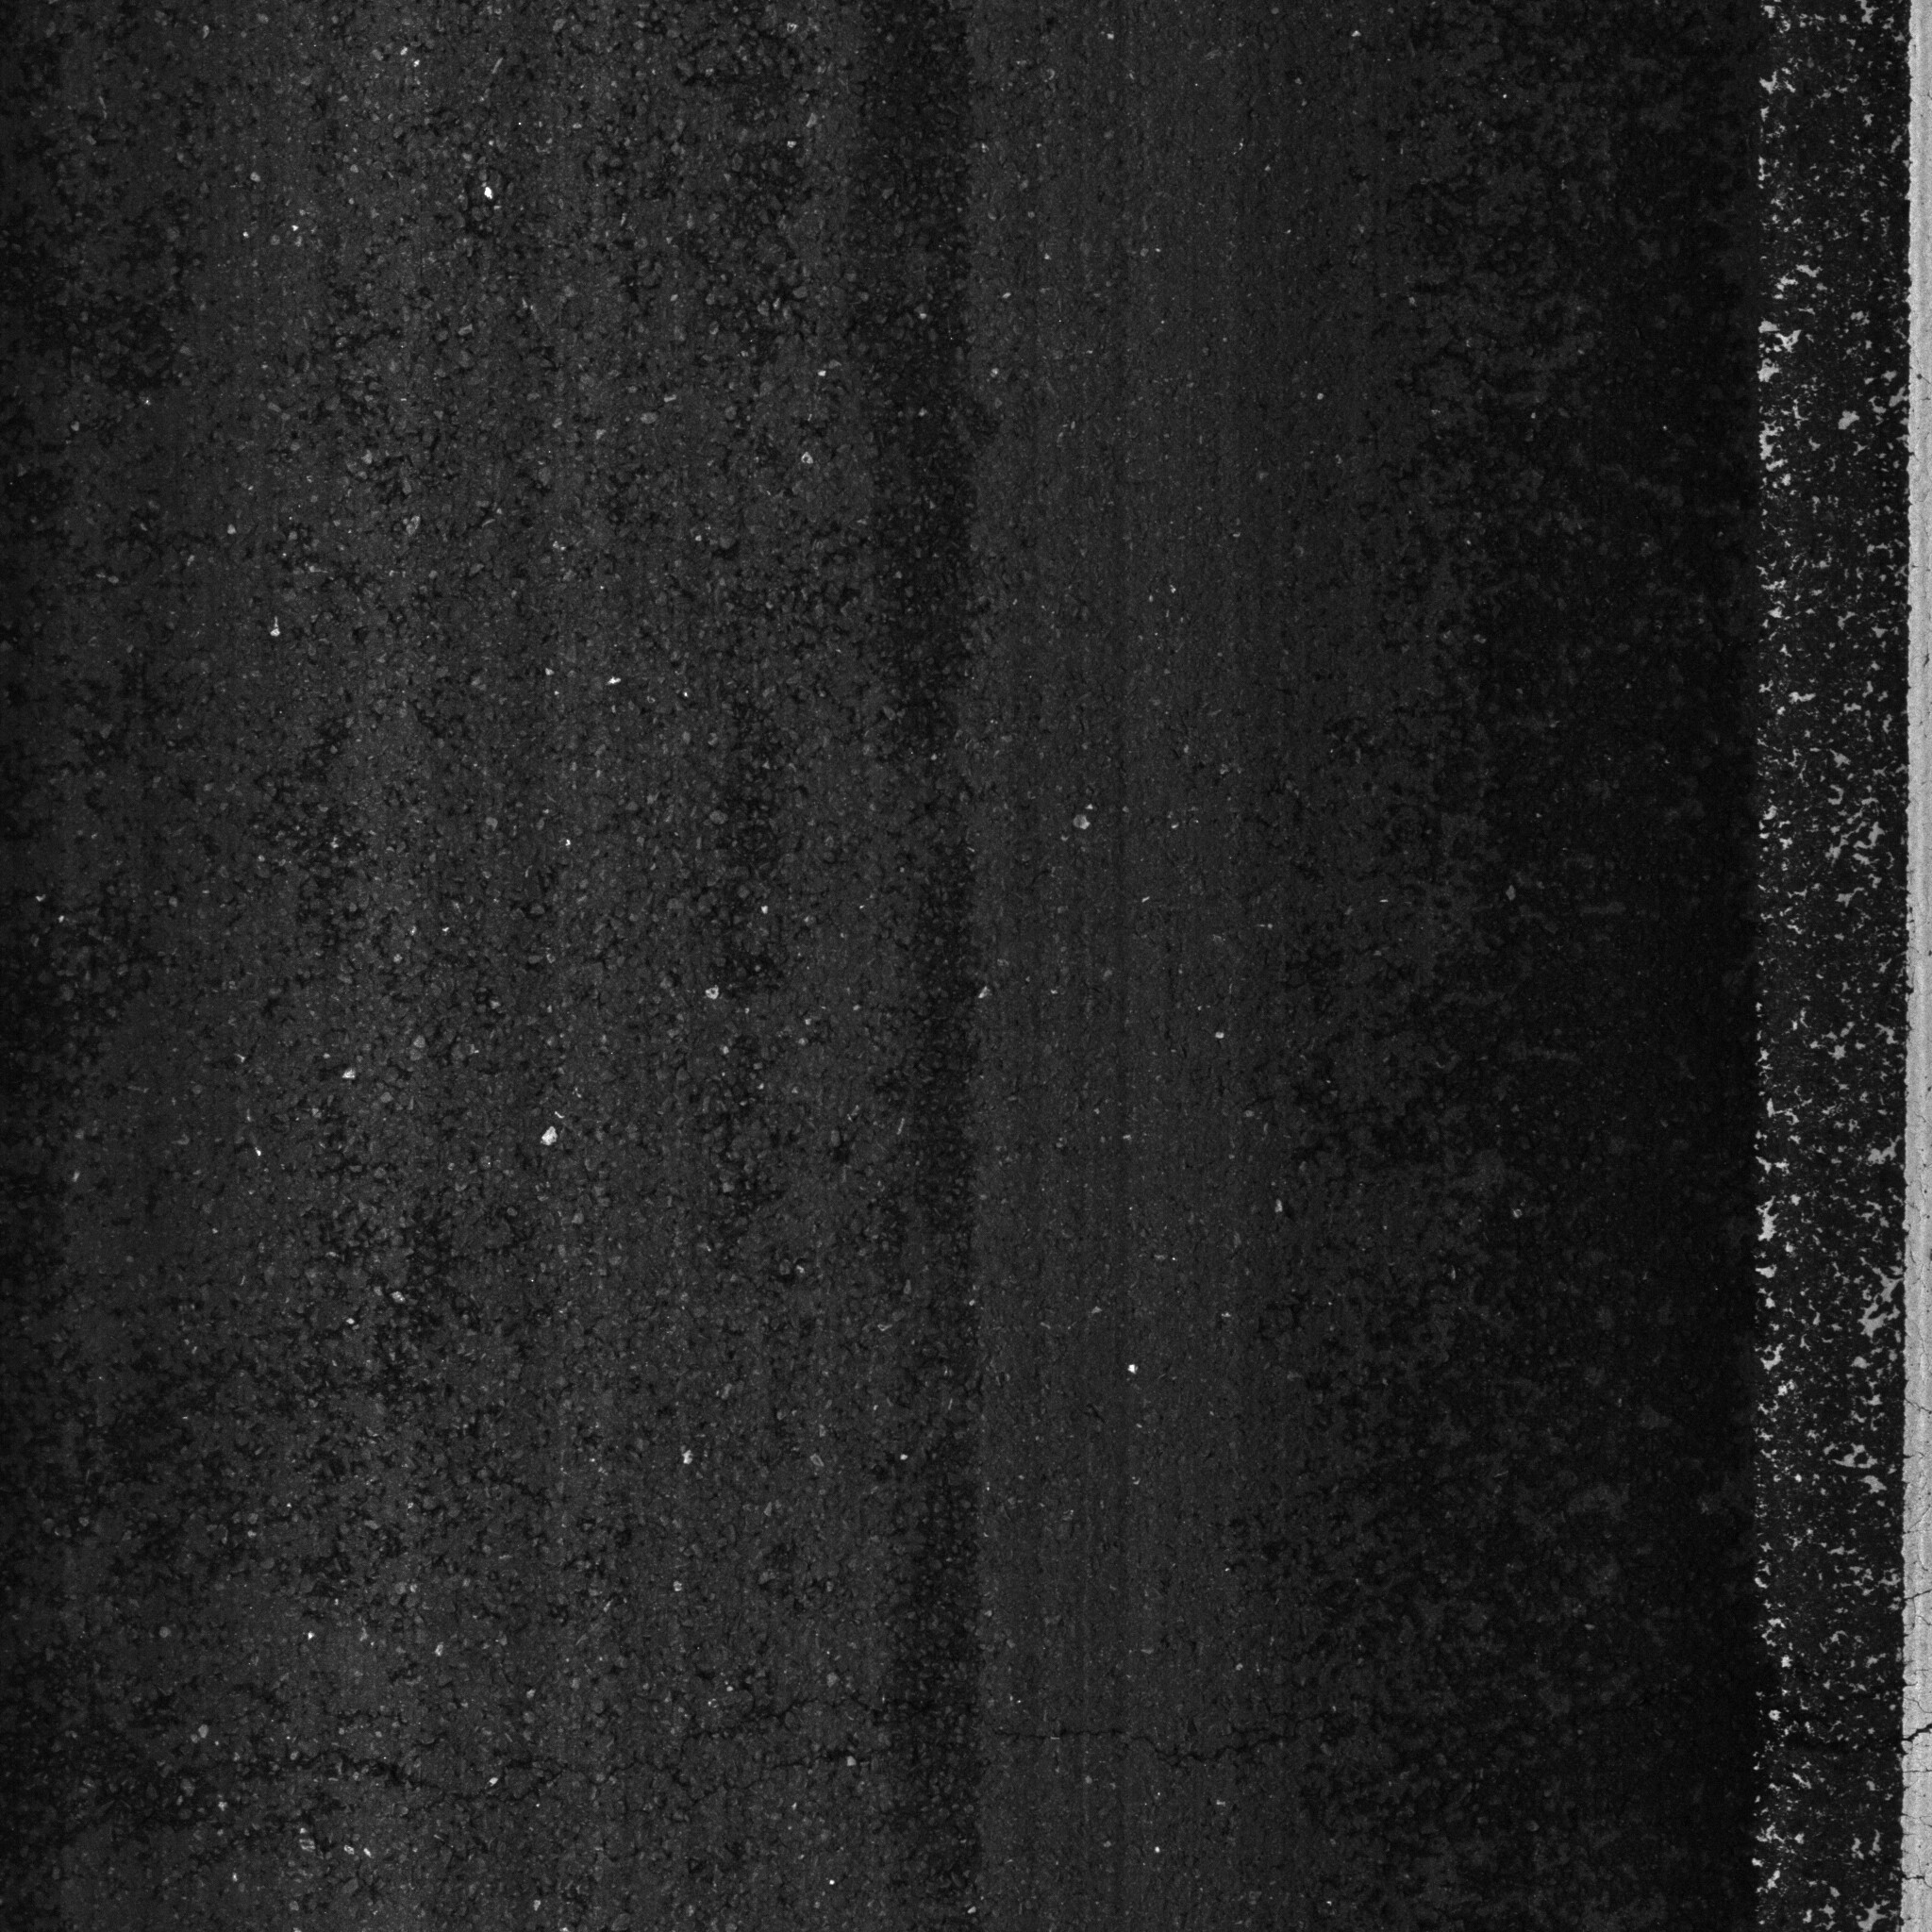transeverse: (142, 1700, 1925, 1813)
